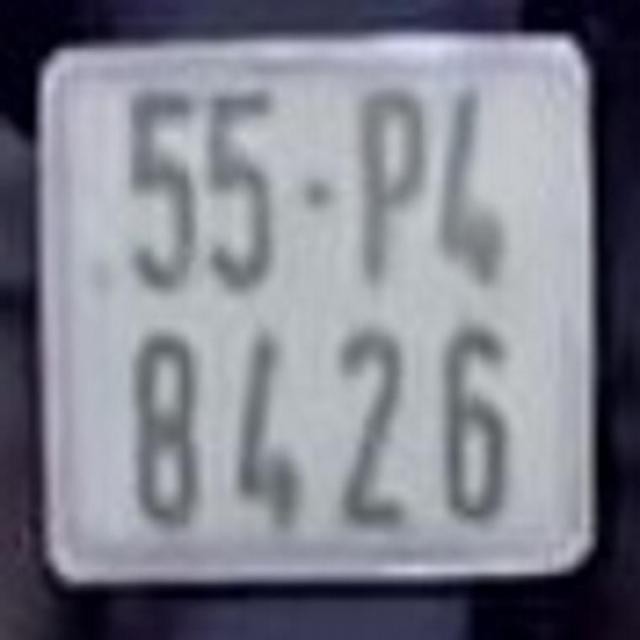2: (337, 320, 410, 531)
4: (232, 323, 308, 535), (436, 84, 506, 294)
5: (120, 82, 199, 290), (205, 82, 279, 296)
6: (437, 319, 515, 523)
8: (130, 324, 202, 534)
P: (353, 85, 425, 296)
